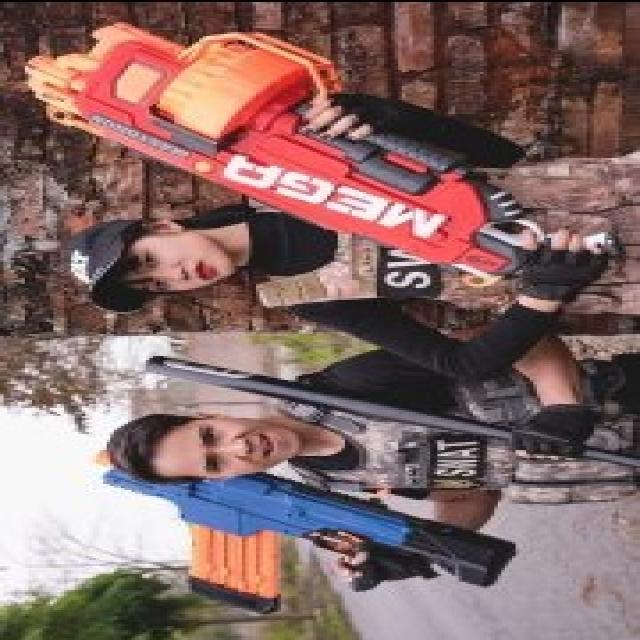Nerf gun: (23, 20, 574, 288), (76, 428, 521, 616)
